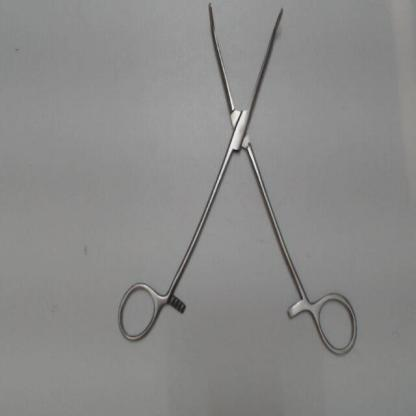Lahey Forceps: (113, 1, 363, 360)
